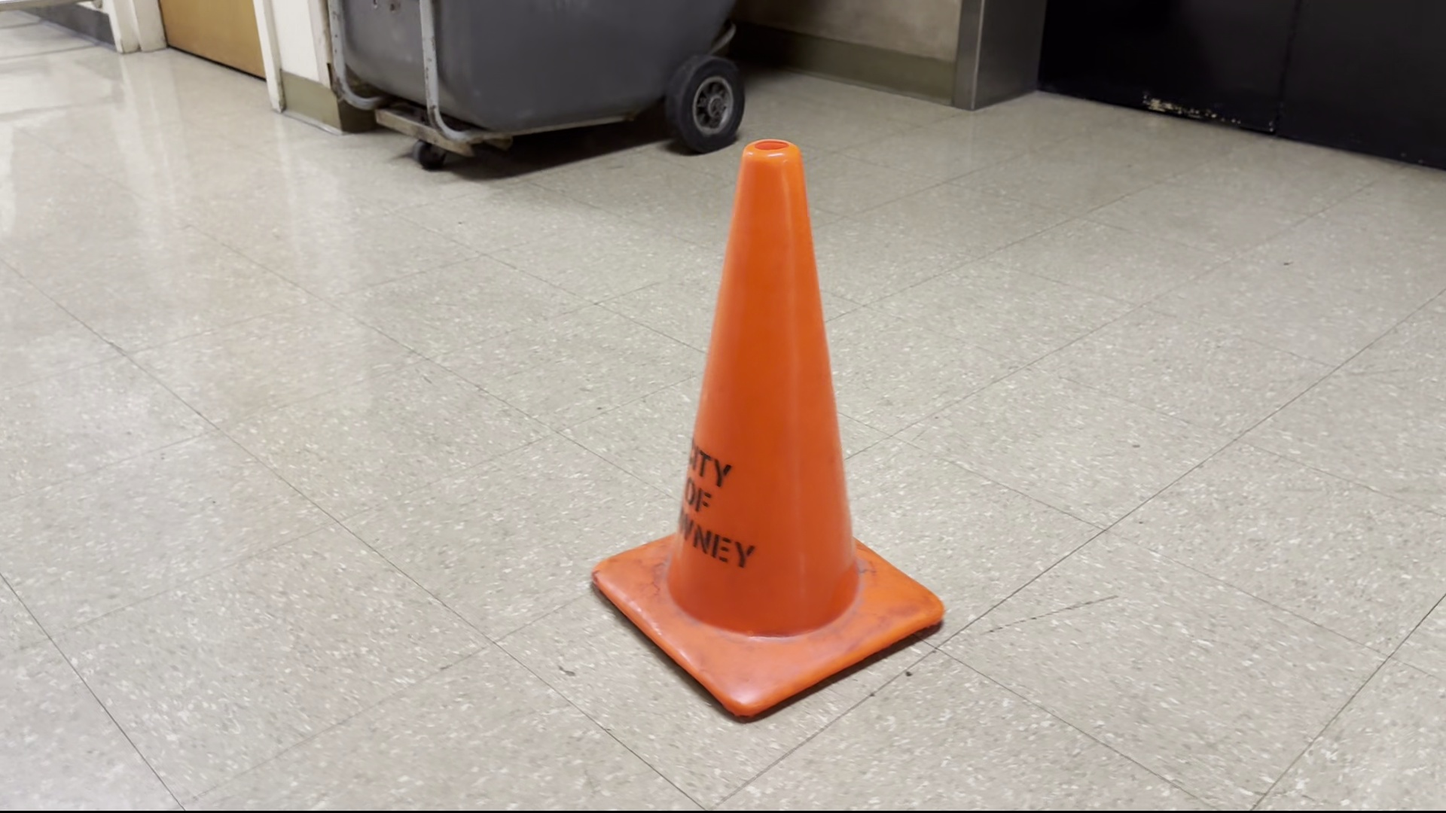traffic_cone: (590, 137, 945, 722)
